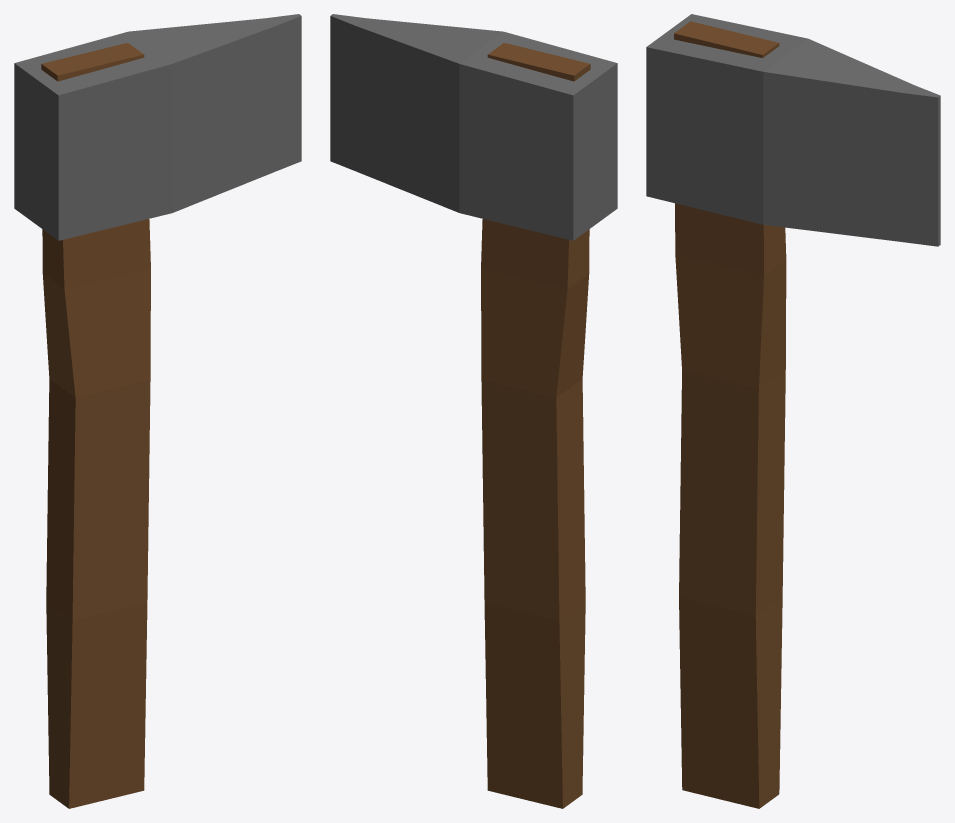
File: Hatchet.fbx
3 renders of one model, left to right at view 1: azimuth 30°, elevation 25°; view 2: azimuth 150°, elevation 25°; view 3: azimuth 330°, elevation 25°, orthographic. The views are drawn at different scales.
Parts seen in each view (by area): view 1: Hatchet; view 2: Hatchet; view 3: Hatchet.
Boxes of the visible parts, x1,y1,x2,y2 form: Hatchet: (14,14,301,808); Hatchet: (330,14,617,808); Hatchet: (646,14,940,808).
Size of the model in its own units: 0.1902 by 0.5059 by 0.0551.
